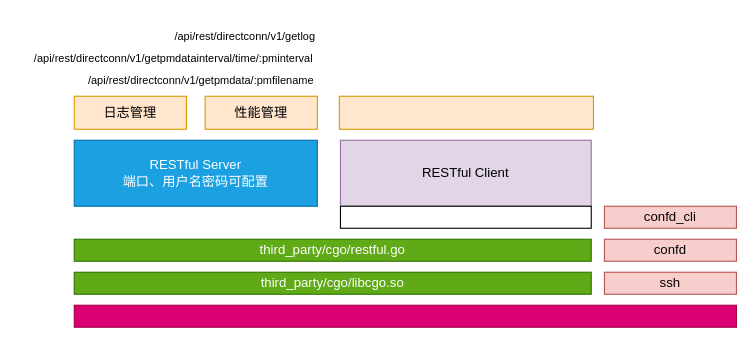
This 756x347 diagram has some shape labels left out. The shapes that lost their labels are listed below. From the top down, each one's centre as x and y in pixels, then its label:
At pixel 465 112: "告警实时主动上报".
At pixel 465 216: "alarmurl.conf".
At pixel 404 315: "linux".
